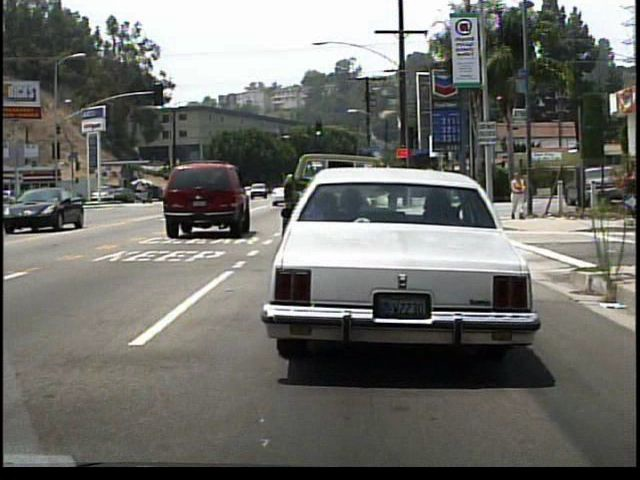person: (509, 170, 529, 223)
